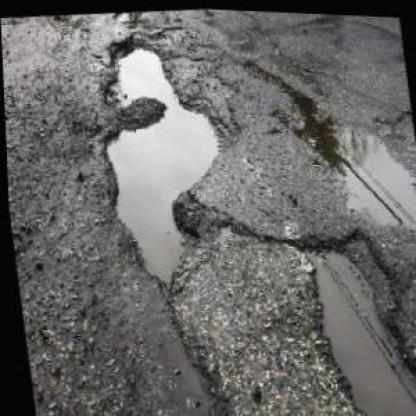pothole: (85, 21, 241, 294)
